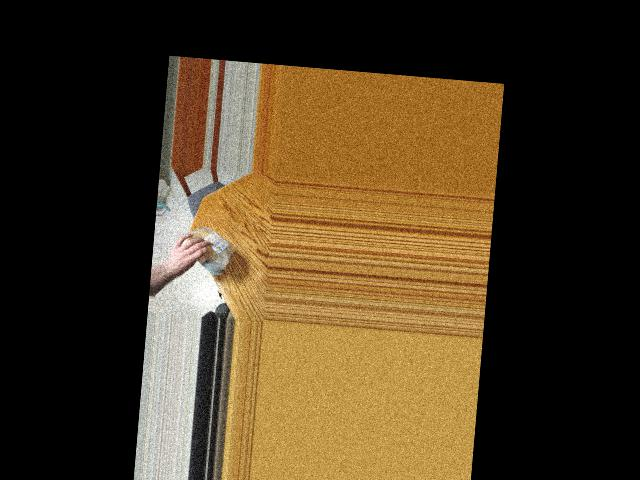cheese: (175, 223, 234, 273)
